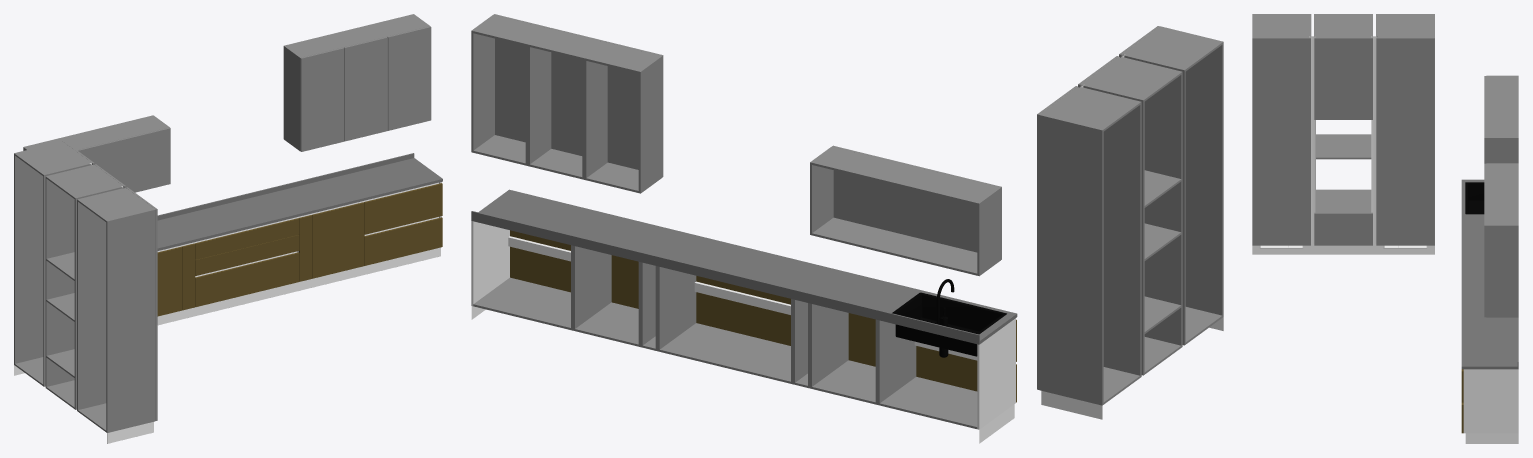
Rendered from Contemporary.FBX.
The picture shows the model from 3 angles, left to right: view 1: azimuth 30°, elevation 25°; view 2: azimuth 150°, elevation 25°; view 3: azimuth 270°, elevation 25°; orthographic projection. The views are drawn at different scales.
Visible parts, largest first — view 1: 3dSolid (×39); view 2: 3dSolid (×56), 3dSolid2229; view 3: 3dSolid (×23).
Boxes of the visible parts, x1,y1,x2,y2 form: 3dSolid (×39): [14, 14, 442, 443]; 3dSolid (×56): [471, 14, 1223, 428]; 3dSolid2229: [977, 318, 1015, 429]; 3dSolid (×23): [1252, 14, 1518, 443].
Size of the model in its own units: 5099 by 2450 by 2712.
